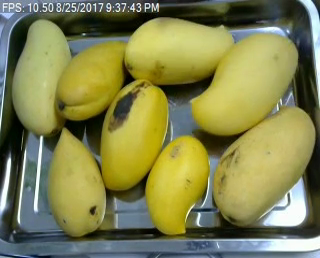Mango: (210, 105, 320, 229), (189, 29, 299, 132), (94, 74, 174, 193), (125, 13, 237, 92), (29, 126, 113, 231), (14, 12, 82, 139), (149, 129, 212, 239), (59, 33, 126, 128)
